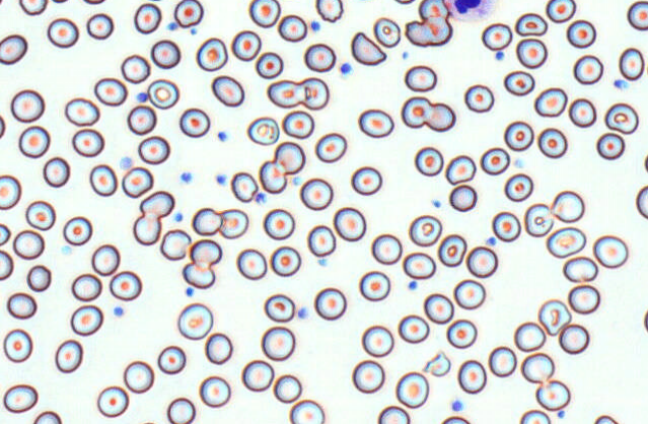GRAN: (441, 0, 503, 23)
PLT: (117, 154, 136, 171), (181, 170, 198, 185), (255, 193, 269, 207), (338, 61, 351, 76), (136, 91, 149, 105), (614, 78, 628, 91), (297, 306, 310, 318), (111, 306, 125, 317), (485, 237, 500, 247), (219, 129, 229, 143), (408, 280, 420, 291), (310, 20, 322, 31), (216, 172, 226, 185), (452, 400, 463, 411), (494, 49, 506, 59), (318, 258, 329, 268), (185, 286, 194, 298), (167, 22, 179, 31), (174, 212, 183, 222), (432, 201, 442, 210), (558, 410, 567, 418), (188, 27, 197, 34)
RBC: (177, 302, 213, 340), (546, 226, 586, 258), (395, 371, 429, 408), (261, 325, 295, 361), (538, 299, 571, 336), (593, 234, 628, 268), (333, 206, 366, 241), (299, 177, 333, 210), (10, 89, 44, 122), (535, 379, 570, 411), (604, 102, 639, 134), (361, 324, 394, 357), (352, 359, 384, 393), (408, 214, 442, 246), (196, 37, 228, 71), (358, 108, 394, 138), (273, 141, 305, 174), (241, 359, 274, 391), (551, 190, 584, 222), (70, 304, 103, 336), (314, 287, 346, 320), (18, 125, 50, 158), (211, 75, 244, 107), (520, 352, 554, 383), (3, 383, 38, 413), (400, 96, 432, 128), (159, 228, 191, 260), (96, 385, 128, 417), (263, 208, 295, 240), (121, 166, 153, 198), (298, 77, 329, 110), (109, 270, 142, 301), (123, 360, 154, 393), (466, 245, 497, 278), (524, 203, 554, 237), (457, 359, 486, 394), (64, 97, 99, 126), (513, 321, 545, 352), (199, 375, 230, 407), (423, 292, 454, 324), (236, 248, 267, 280), (453, 278, 485, 309), (358, 270, 390, 301), (315, 132, 347, 163), (147, 78, 179, 109), (303, 42, 336, 72), (567, 284, 600, 314), (534, 87, 567, 117), (267, 79, 301, 108), (54, 339, 83, 373), (3, 328, 32, 362), (437, 233, 466, 267), (503, 120, 534, 151), (270, 245, 301, 276), (558, 323, 589, 354), (47, 17, 78, 48), (371, 233, 402, 264), (12, 229, 44, 259), (350, 165, 382, 195), (91, 243, 120, 276), (307, 224, 336, 257), (281, 110, 314, 139), (94, 77, 127, 106), (445, 154, 476, 184), (446, 318, 477, 348), (231, 30, 261, 61), (516, 38, 547, 68), (537, 127, 567, 158), (491, 211, 521, 242), (179, 107, 210, 137), (189, 238, 221, 267), (263, 293, 295, 322), (397, 314, 429, 343), (247, 116, 279, 145), (72, 128, 104, 157), (137, 135, 169, 164), (259, 160, 287, 193), (402, 251, 435, 279), (218, 208, 248, 238), (25, 200, 55, 230), (464, 83, 494, 113), (150, 39, 180, 69), (573, 54, 603, 84), (132, 214, 161, 245), (424, 102, 455, 131), (481, 22, 512, 51), (127, 104, 156, 135), (204, 332, 232, 364), (404, 64, 436, 92), (488, 345, 516, 377), (133, 2, 161, 34), (89, 164, 117, 196), (182, 262, 215, 289), (504, 172, 533, 202), (414, 146, 443, 176), (62, 216, 92, 245), (566, 19, 596, 48), (120, 54, 150, 83), (71, 273, 102, 301), (373, 16, 401, 47), (42, 156, 70, 187), (248, 0, 280, 27), (618, 47, 644, 80), (273, 374, 302, 403), (157, 345, 186, 374), (191, 207, 221, 235), (289, 399, 324, 423), (277, 14, 307, 42), (480, 147, 510, 175), (568, 97, 596, 127), (0, 33, 27, 64), (596, 132, 625, 160), (6, 292, 36, 319), (173, 0, 203, 27), (503, 70, 534, 96), (449, 184, 477, 211), (255, 51, 283, 78), (166, 397, 195, 423), (0, 174, 21, 209), (545, 0, 576, 23), (86, 13, 113, 39), (26, 264, 51, 291), (315, 0, 343, 22), (627, 0, 647, 30), (377, 405, 410, 423), (418, 0, 448, 19), (519, 409, 550, 423), (19, 0, 47, 15), (635, 185, 647, 219), (0, 249, 13, 280), (33, 410, 61, 423), (441, 415, 470, 423), (0, 223, 10, 246), (594, 414, 618, 423), (0, 114, 5, 138), (643, 309, 648, 333), (643, 153, 648, 173), (82, 0, 105, 4), (394, 0, 415, 4), (137, 421, 158, 424), (51, 0, 68, 3)
Schistocyte: (352, 32, 388, 67), (141, 192, 176, 219), (562, 257, 599, 282), (230, 171, 258, 203), (514, 12, 549, 36), (406, 22, 432, 49), (425, 352, 451, 377)
